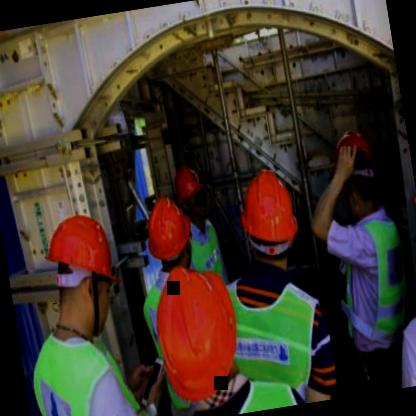helmet: (138, 257, 250, 412), (32, 202, 132, 338), (227, 163, 308, 281), (322, 120, 390, 222), (140, 193, 199, 282), (170, 162, 214, 227)
